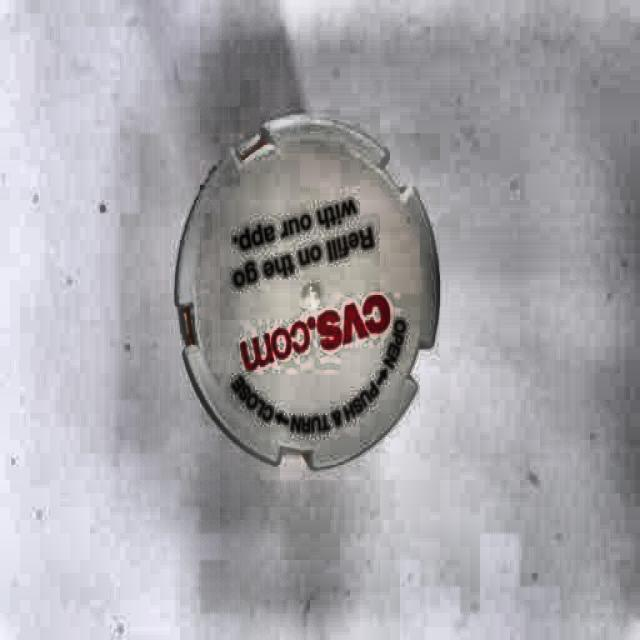plastic: (173, 115, 441, 482)
